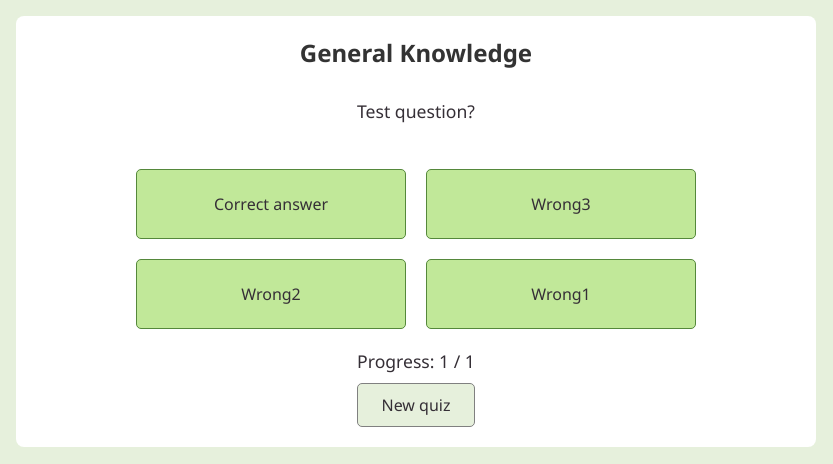
Test: QuizView.vue › handles quiz completion
Click the button "Correct answer" at (271, 204), box [136,169,406,239]
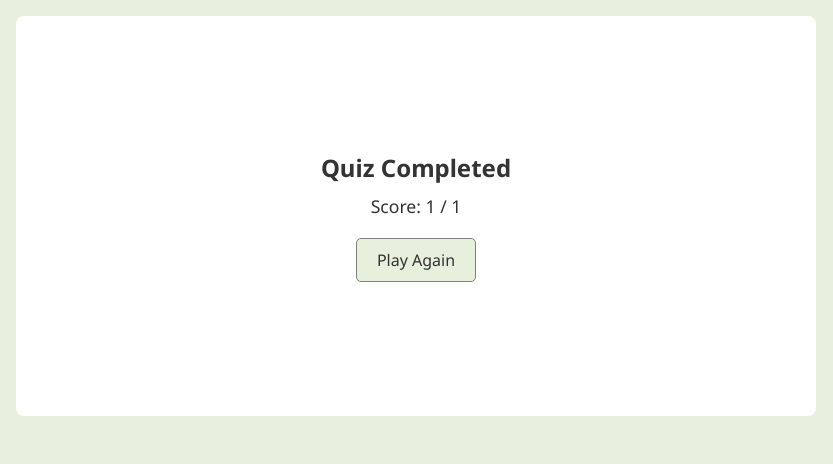
Expected: the element showing "Quiz Completed Score: 1 / 1 Play Again" is shown, [321,150,511,282]
